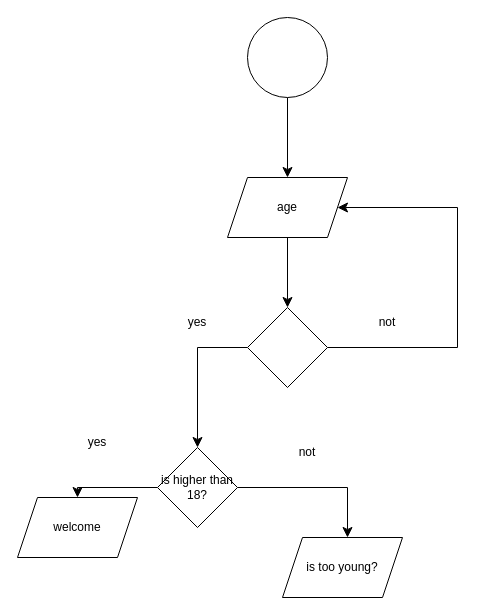
Some shapes in this 485 by 615 pixel diagram are drawn without their labels. Here are the shapes that lost their labels. From the top down, the centre of each, then its label:
At (287,57): "start".
At (287,347): "age higher than 0?".
